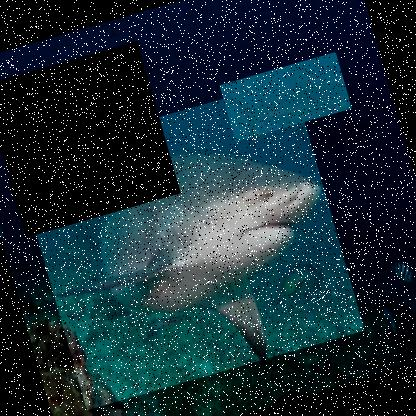bulldog-shark: (13, 78, 364, 411), (0, 40, 180, 238), (218, 52, 352, 142)
